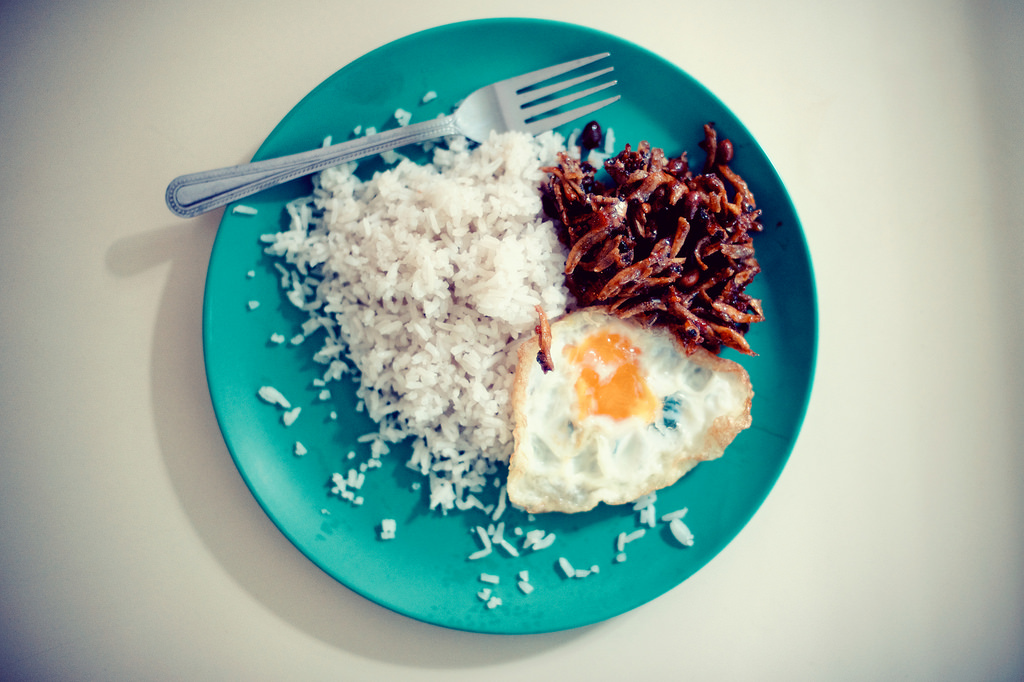fried egg: (506, 314, 749, 516)
plain rice: (317, 147, 529, 403)
